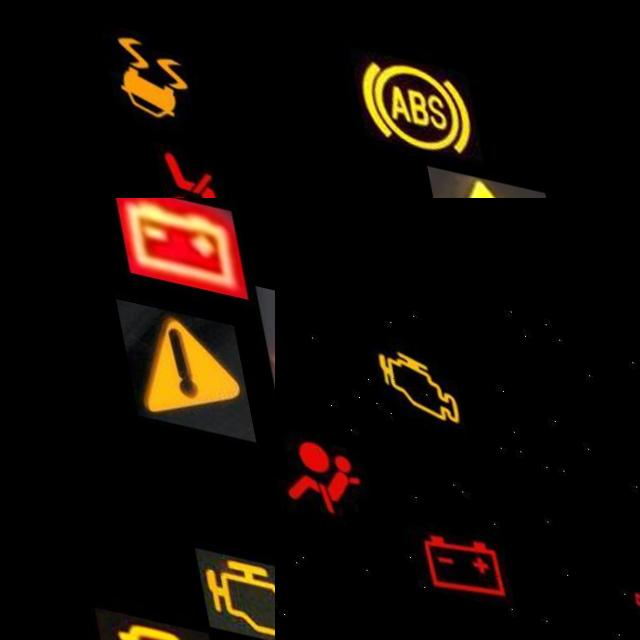Central Warning lamp: (111, 294, 246, 433), (421, 156, 554, 198)
